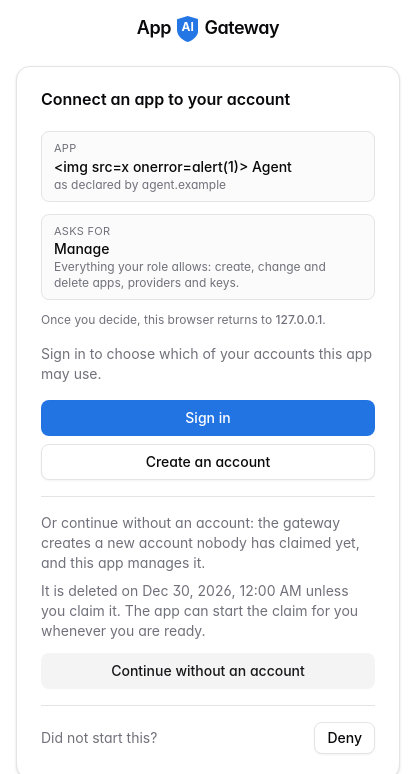
Test case: OAuthConsentPage nobody signed in › shows the refusal of the guest door the gateway answers with
Click the button "Continue without an account": (208, 671) [41,653,375,689]
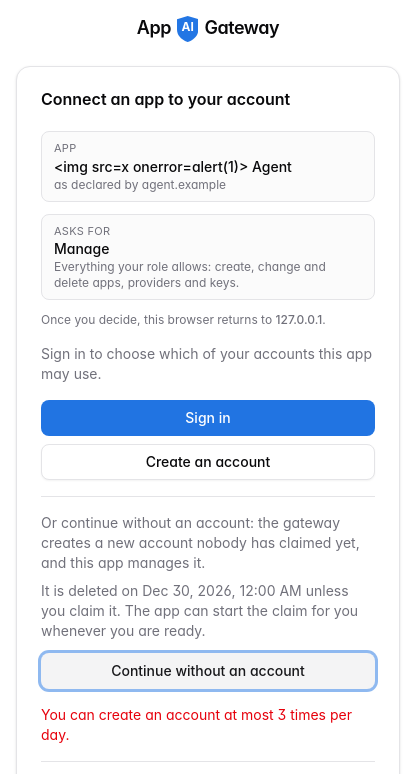
Expected: the message shows "at most 3 times per day", [41,706,352,743]
